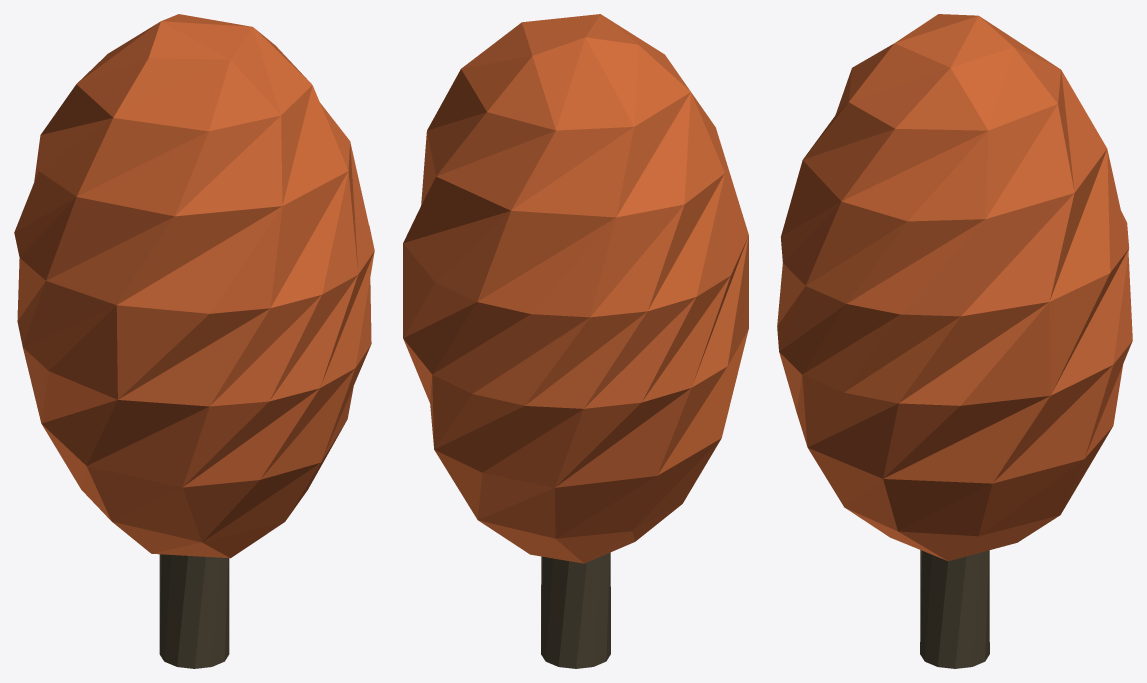
File: twisted_autumn3.dae
The picture shows the model from 3 angles, left to right: view 1: azimuth 30°, elevation 25°; view 2: azimuth 150°, elevation 25°; view 3: azimuth 270°, elevation 25°; orthographic projection.
Visible parts, largest first — view 1: Kugel, Zylinder; view 2: Kugel, Zylinder; view 3: Kugel, Zylinder.
Part boxes in pixels (x1,y1,x2,y2): Kugel: (14, 14, 374, 558); Zylinder: (159, 554, 229, 668); Kugel: (403, 14, 748, 563); Zylinder: (541, 552, 610, 668); Kugel: (777, 14, 1132, 561); Zylinder: (920, 550, 989, 668).
Bounding box in the file's own units: 4.54 × 9.01 × 4.63.
